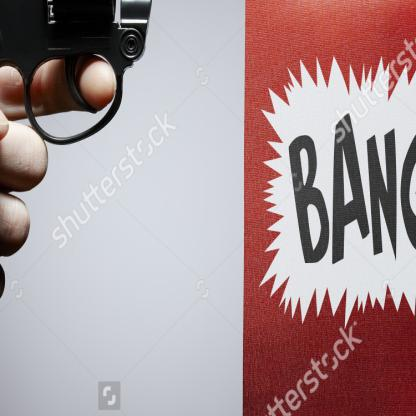gun: (0, 0, 223, 170)
